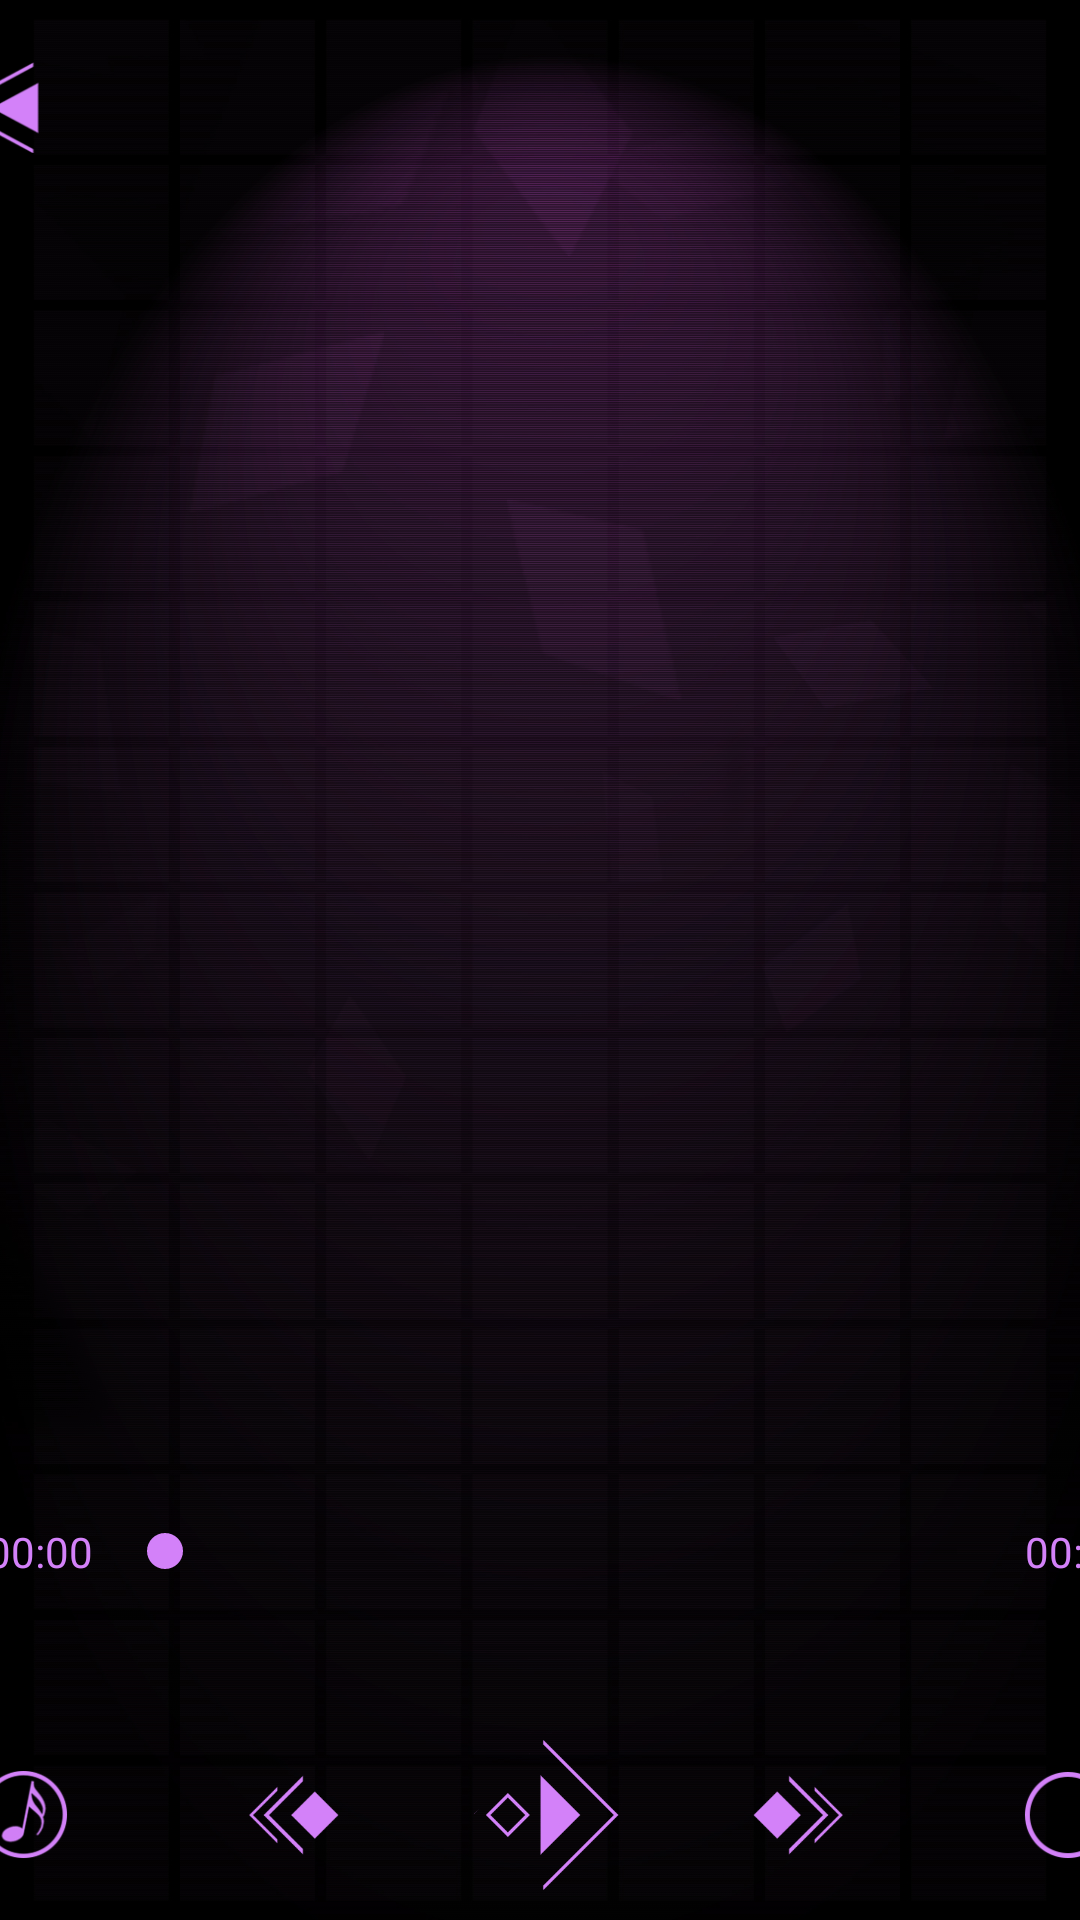

Icons on this 1080w x 1920h Android screen, each with its box as rect(x1, y1, x2, y2):
next: rect(753, 1776, 843, 1854)
play: rect(474, 1740, 619, 1890)
prev: rect(249, 1776, 339, 1854)
